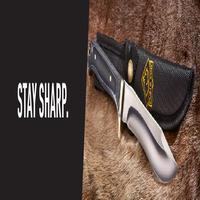knife: (88, 26, 192, 194)
